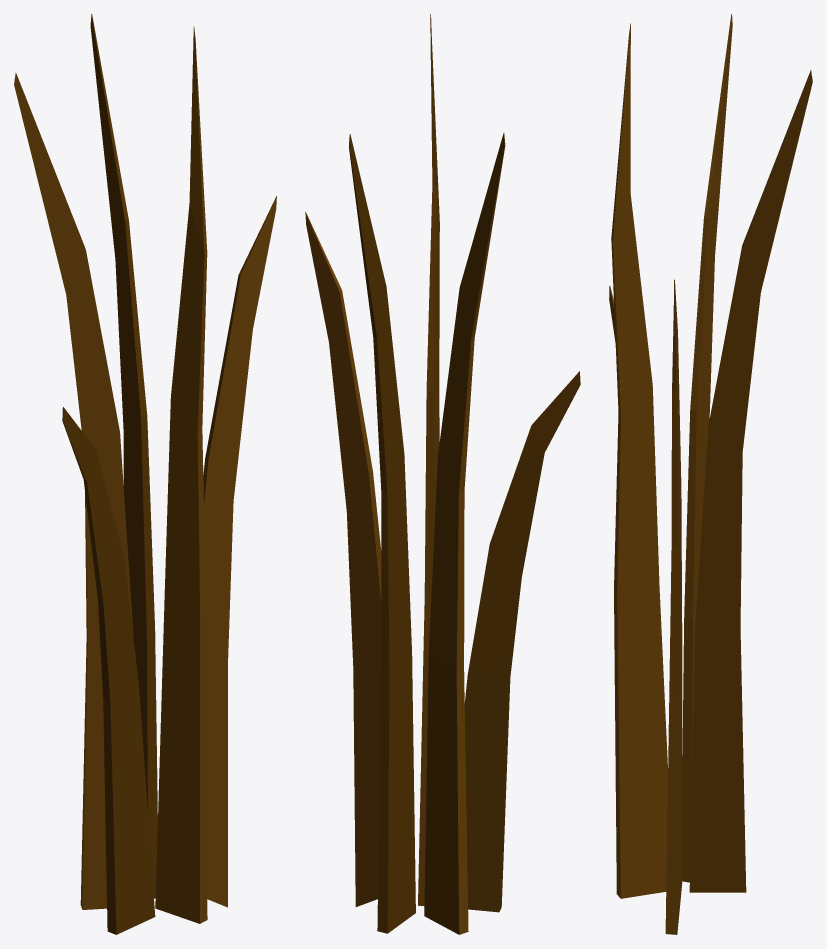
The model's file is PrairieTallGrass(2).fbx.
3 views of the same model, side by side, from view 1: azimuth 30°, elevation 25°; view 2: azimuth 150°, elevation 25°; view 3: azimuth 270°, elevation 25° (orthographic). The views are drawn at different scales.
Visible parts, largest first — view 1: PrairieTallGrass(2); view 2: PrairieTallGrass(2); view 3: PrairieTallGrass(2).
Boxes of the visible parts, bbox=[...] form: PrairieTallGrass(2): bbox=[14, 14, 276, 934]; PrairieTallGrass(2): bbox=[305, 14, 580, 934]; PrairieTallGrass(2): bbox=[609, 14, 812, 934].
Bounding box in the file's own units: 1.16 × 4.06 × 0.8454.
